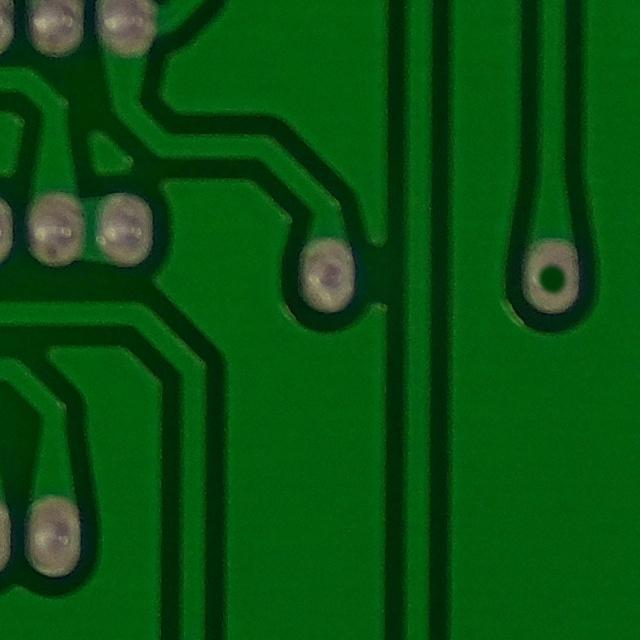missing_hole: (507, 230, 598, 323)
